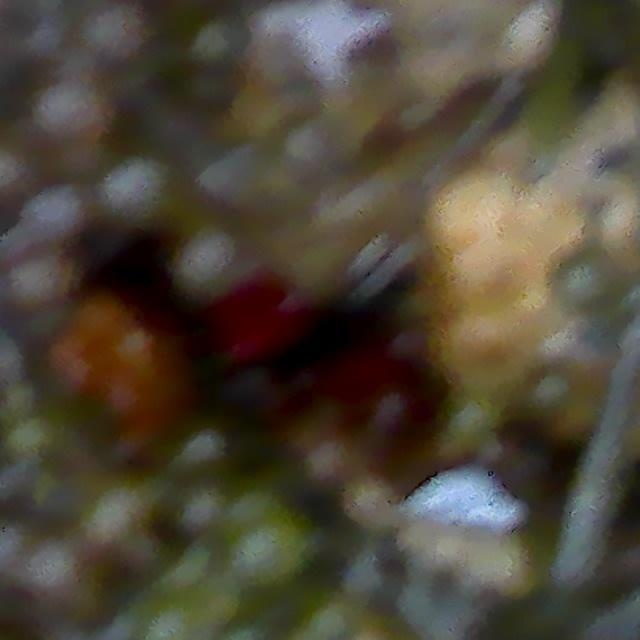SeaGrape: (32, 78, 107, 155), (84, 0, 144, 63), (21, 186, 80, 240), (181, 232, 237, 280), (107, 158, 162, 206), (14, 255, 60, 301)
